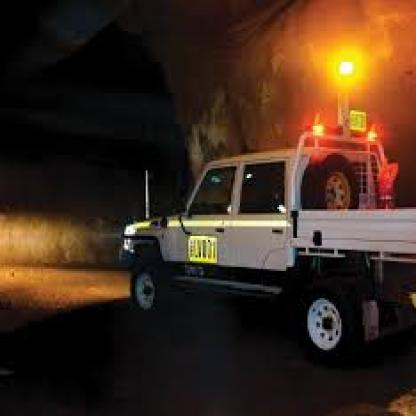light_vehicle: (66, 116, 414, 368)
